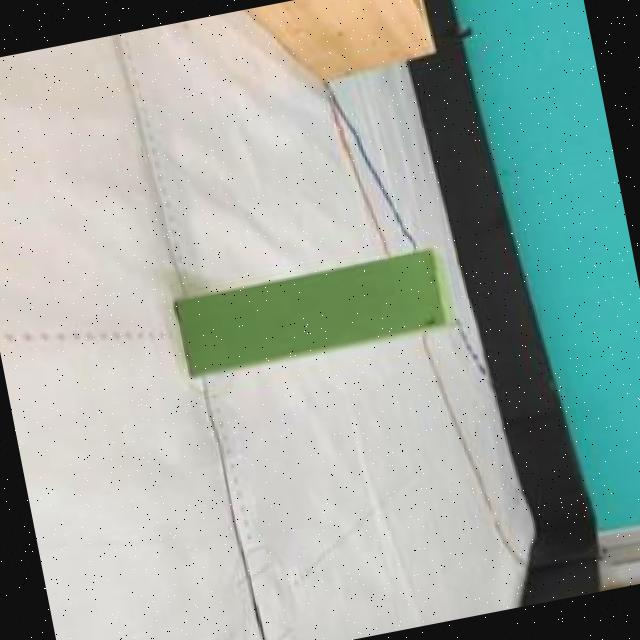greenbox: (169, 238, 458, 384)
